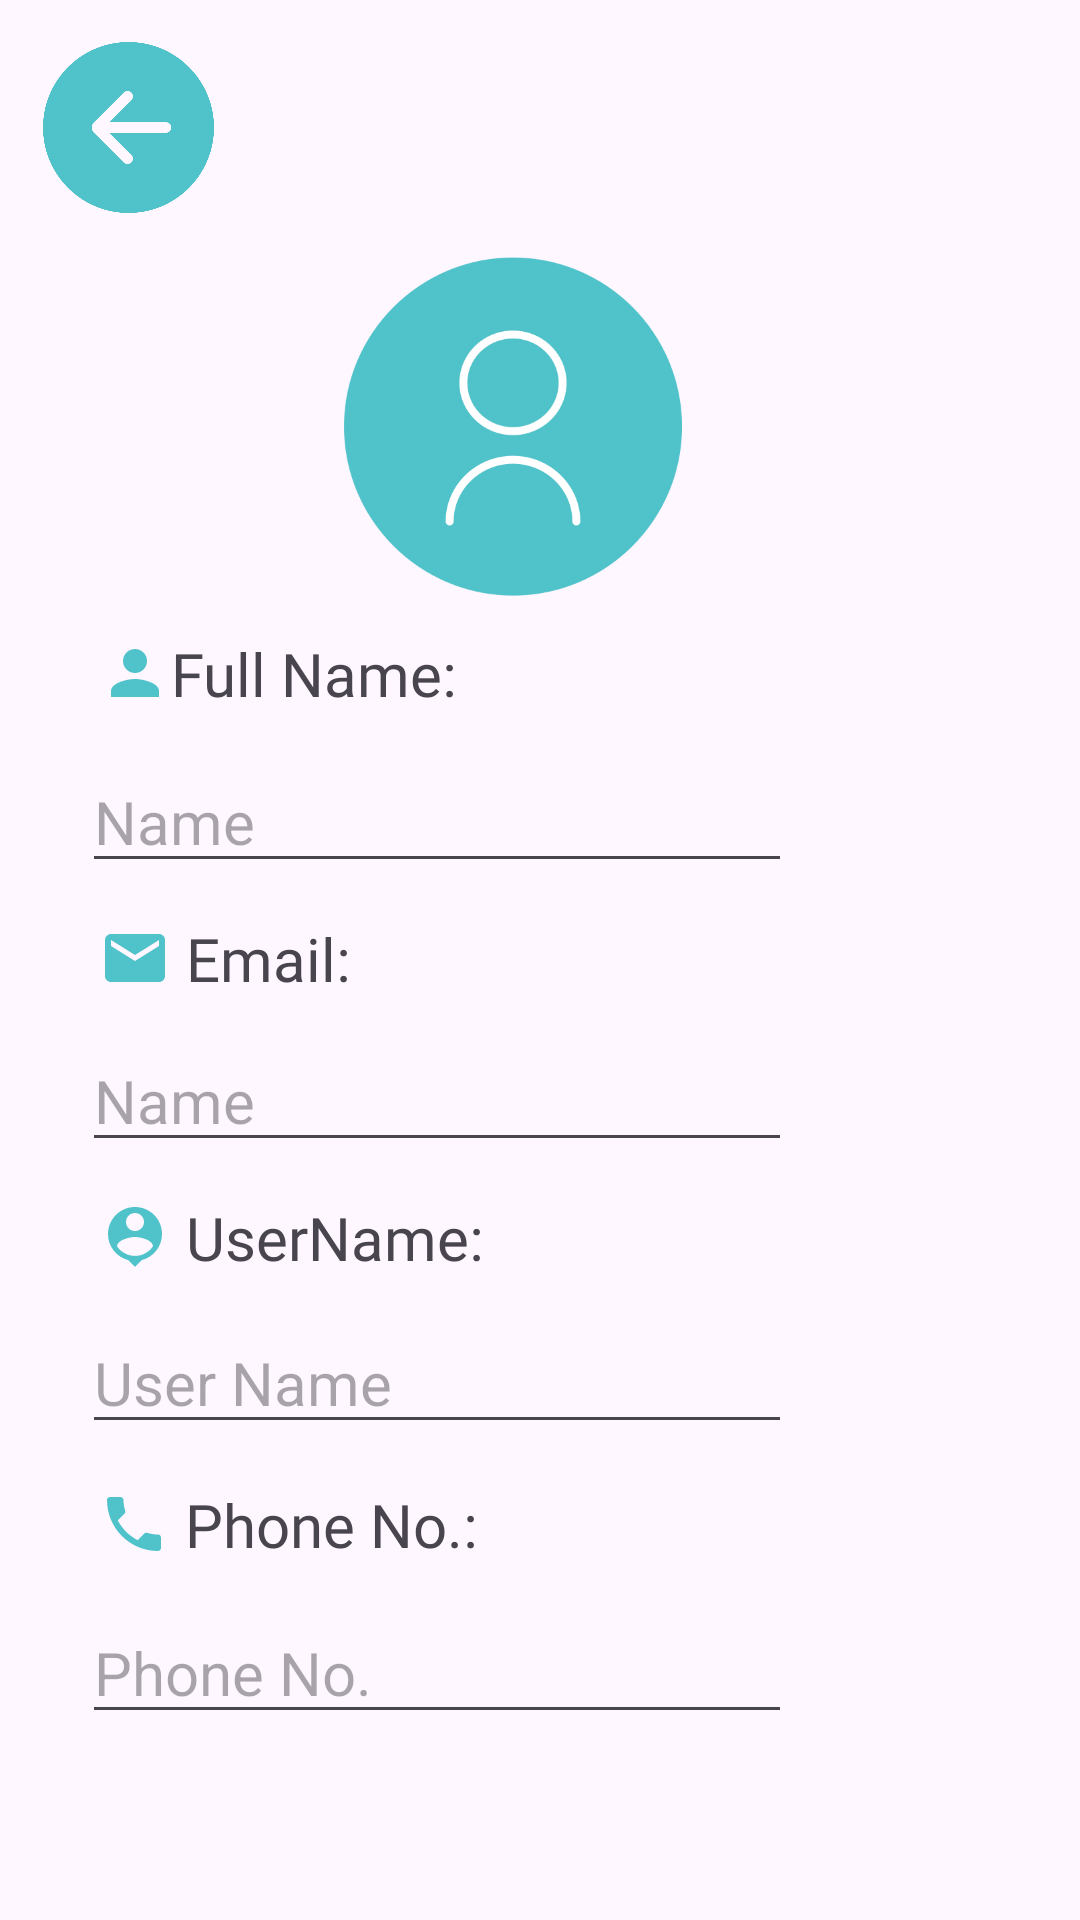

Icon click points for this 1080px x 1920px phone screenshot, format point (x, y):
back arrow: point (128, 127)
profile: point (513, 426)
